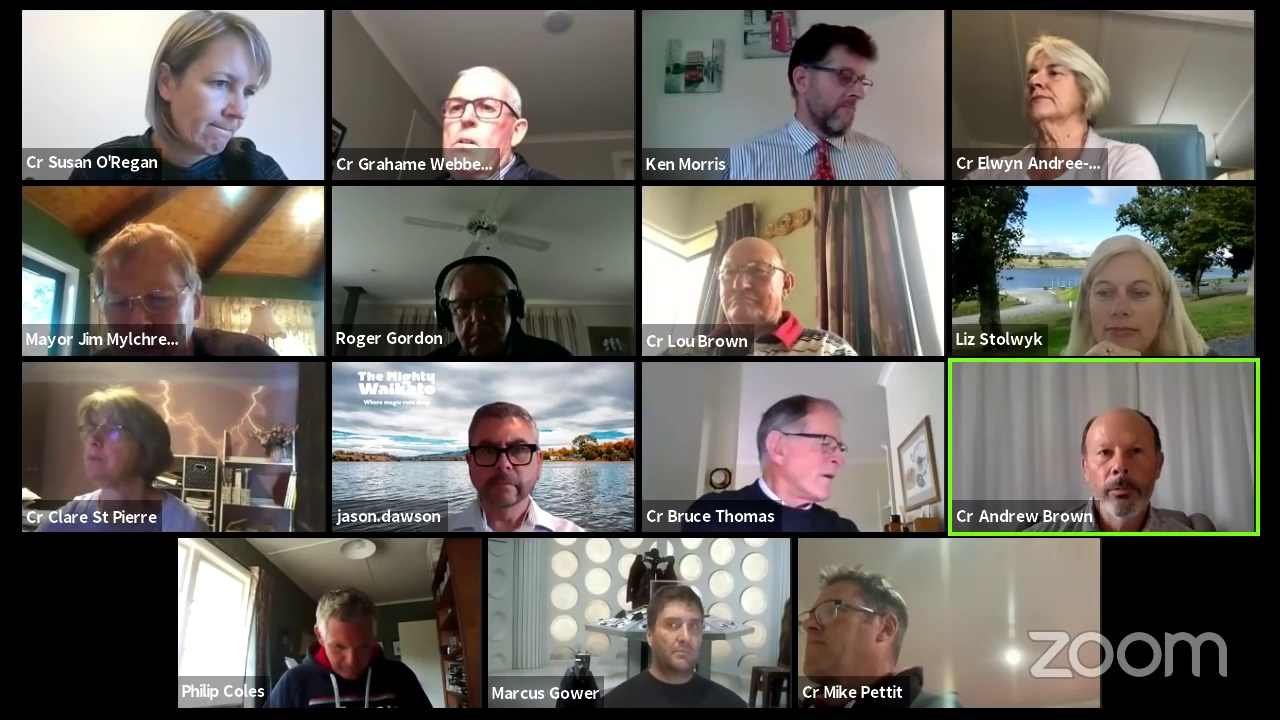Distracted: (775, 25, 890, 141), (748, 393, 854, 511), (1002, 33, 1113, 135), (61, 392, 165, 483), (312, 583, 386, 679)
Not Distracted: (152, 19, 269, 152), (413, 64, 527, 178), (1071, 233, 1175, 353), (456, 403, 556, 514), (90, 238, 203, 335), (433, 252, 534, 355), (708, 237, 803, 334), (1081, 412, 1171, 512), (647, 592, 707, 671)
